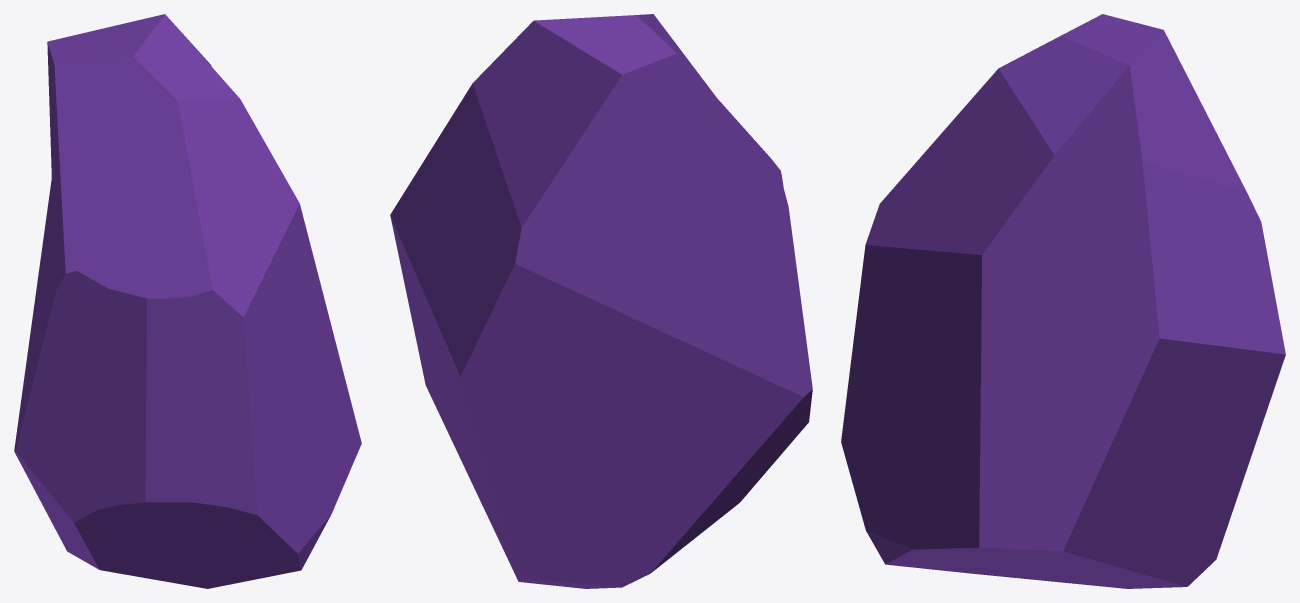
The model's file is rock8.fbx.
3 renders of one model, left to right at view 1: azimuth 30°, elevation 25°; view 2: azimuth 150°, elevation 25°; view 3: azimuth 270°, elevation 25°, orthographic. The views are drawn at different scales.
Visible parts, largest first — view 1: Cube_009; view 2: Cube_009; view 3: Cube_009.
Boxes of the visible parts, x1,y1,x2,y2 form: Cube_009: [14, 14, 361, 588]; Cube_009: [390, 14, 812, 588]; Cube_009: [841, 14, 1285, 588].
Size of the model in its own units: 1.93 by 2.86 by 2.1.
